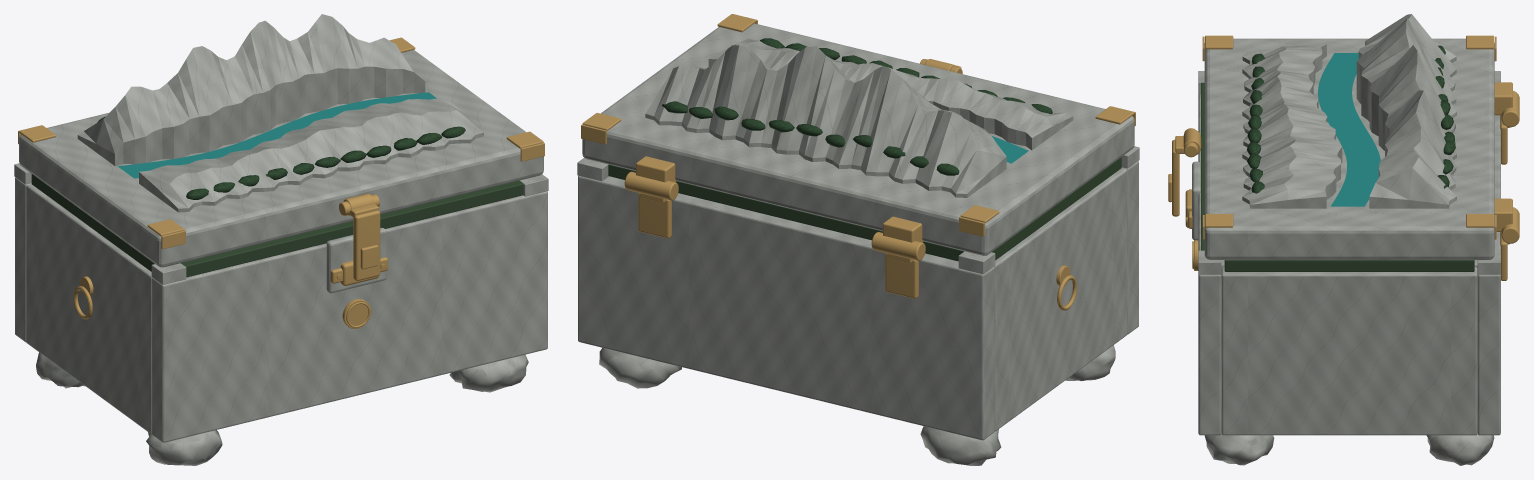
The model's file is montenegro.glb.
3 views of the same model, side by side, from view 1: azimuth 30°, elevation 25°; view 2: azimuth 150°, elevation 25°; view 3: azimuth 270°, elevation 25° (orthographic). The views are drawn at different scales.
Visible parts, largest first — view 1: Limestone / long wall, Lid / polished slab, Karst / rear massif, Limestone / end wall, Karst / foreground bank, Mineral seam / long, Tara / continuous river, Limestone foot, Limestone / long wall.001, Limestone foot.002, Latch / lifting hasp, Limestone / clasp seat (+4 smaller); view 2: Limestone / long wall.001, Lid / polished slab, Karst / rear massif, Limestone / end wall, Karst / foreground bank, Mineral seam / long.001, Limestone foot.001, Limestone / long wall, Limestone foot.003, Mineral seam / side, Hinge / fixed mount.001, Hinge / fixed mount (+7 smaller); view 3: Limestone / end wall.001, Lid / polished slab, Karst / rear massif, Karst / foreground bank, Tara / continuous river, Limestone / long wall.001, Limestone / long wall, Mineral seam / side.001, Limestone foot.002, Limestone foot.003, Mineral seam / long, Limestone / clasp seat (+11 smaller).
Part boxes in pixels (x1,y1,x2,y2): Limestone / long wall: (152, 191, 547, 442); Lid / polished slab: (19, 50, 543, 267); Karst / rear massif: (77, 14, 425, 165); Limestone / end wall: (26, 184, 152, 434); Karst / foreground bank: (139, 97, 483, 212); Mineral seam / long: (181, 180, 523, 277); Tara / continuous river: (118, 92, 436, 178); Limestone foot: (146, 430, 222, 465); Limestone / long wall.001: (15, 177, 31, 342); Limestone foot.002: (449, 354, 528, 392); Latch / lifting hasp: (353, 210, 380, 280); Limestone / clasp seat: (326, 228, 386, 293); Limestone / long wall.001: (578, 175, 994, 440); Lid / polished slab: (582, 23, 1134, 255); Karst / rear massif: (645, 45, 1006, 197); Limestone / end wall: (994, 168, 1126, 431); Karst / foreground bank: (708, 38, 1073, 150); Mineral seam / long.001: (608, 164, 963, 261); Limestone foot.001: (920, 426, 1001, 465); Limestone / long wall: (1121, 161, 1138, 334); Limestone foot.003: (599, 348, 681, 388); Mineral seam / side: (992, 157, 1121, 260); Hinge / fixed mount.001: (638, 193, 671, 238); Hinge / fixed mount: (885, 253, 918, 298); Limestone / end wall.001: (1221, 267, 1477, 435); Lid / polished slab: (1204, 38, 1494, 259); Karst / rear massif: (1356, 14, 1456, 208); Karst / foreground bank: (1242, 44, 1342, 208); Tara / continuous river: (1318, 53, 1380, 206); Limestone / long wall.001: (1477, 115, 1500, 435); Limestone / long wall: (1198, 94, 1221, 435); Mineral seam / side.001: (1224, 260, 1474, 271); Limestone foot.002: (1204, 434, 1274, 465); Limestone foot.003: (1426, 434, 1494, 465); Mineral seam / long: (1201, 82, 1204, 250); Limestone / clasp seat: (1192, 161, 1200, 240).
Bounding box in the file's own units: 3.79 × 3.12 × 2.88.
5 materials, 2 textured.
